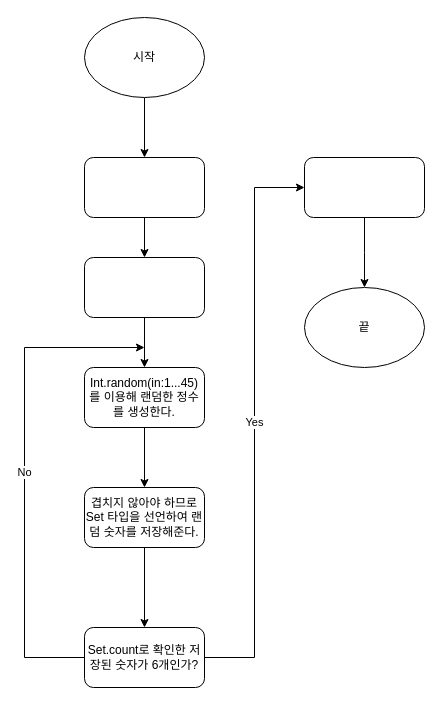
The diagram is 442 pixels wide and 705 high, and some of its shapes have lost their labels. Each missing label, with the centre of its shape:
6개의 랜덤한 숫자를 생성한다.: (144,187)
6개의 숫자를 저장한 Set 타입을 반환해준다.: (364,187)
While 조건부에 true를 넣어 무한 반복해준다.: (144,287)
